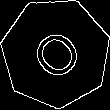O_SE: (23, 20, 88, 86)
